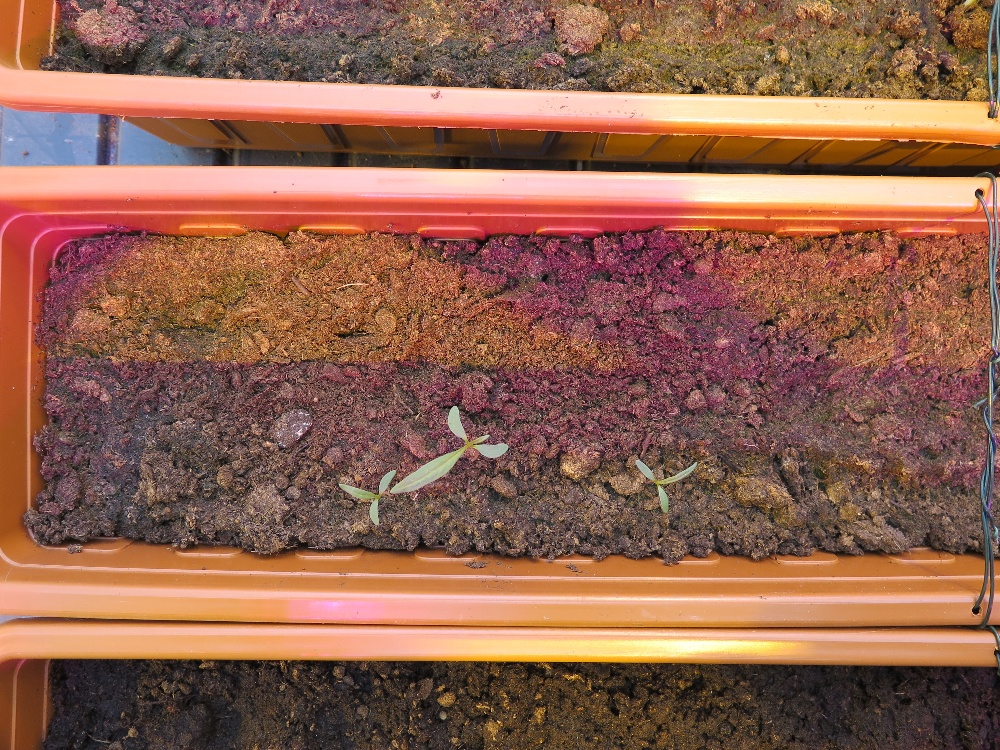weed: (393, 383, 523, 497), (316, 447, 416, 533), (600, 436, 689, 517)
